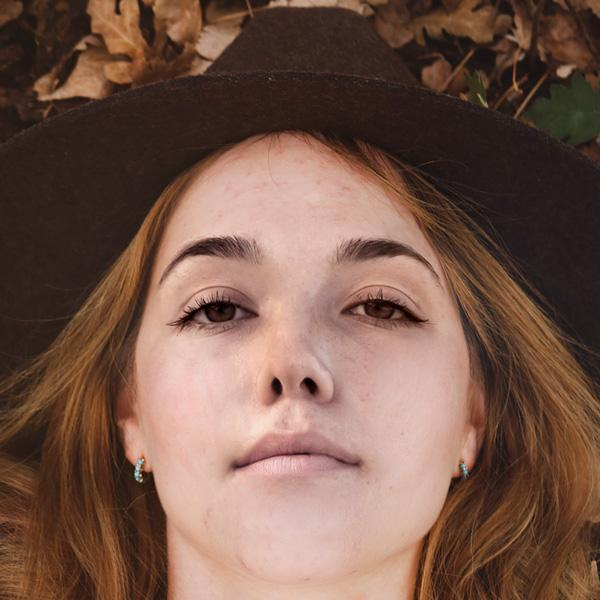Eyes: (328, 275, 438, 341), (162, 278, 268, 345)
